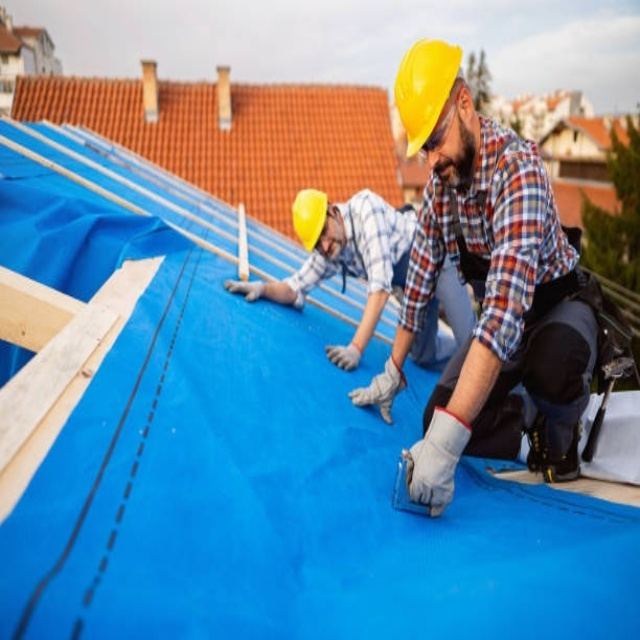Gafas: (420, 93, 460, 163)
Guantes: (400, 405, 473, 514), (347, 349, 407, 424), (224, 278, 272, 304), (326, 339, 362, 372)
Sin_mascara: (428, 160, 457, 185)
